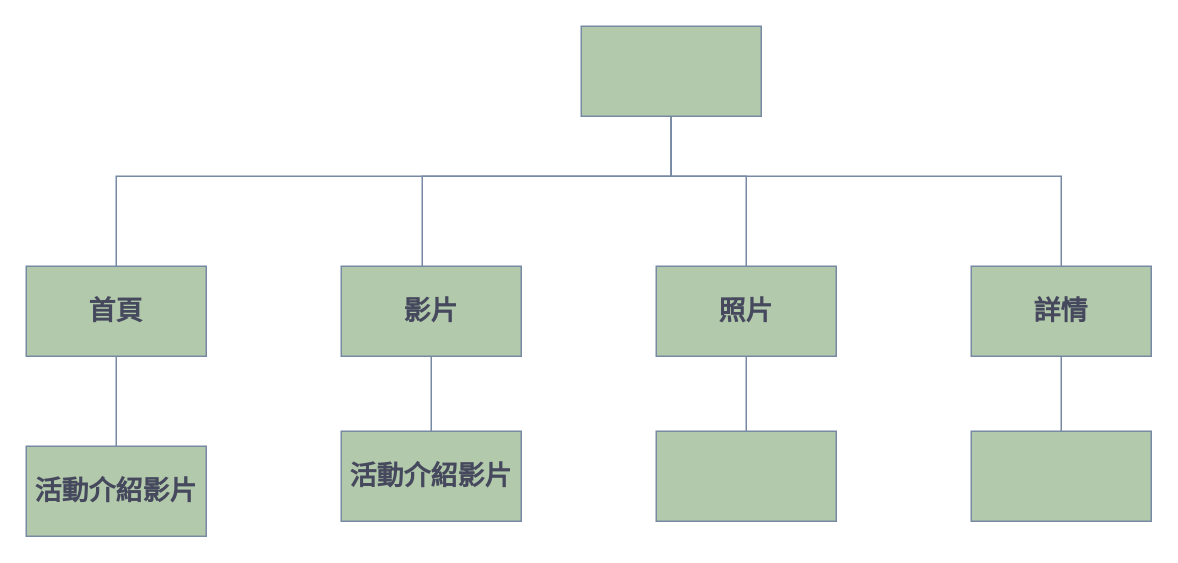
Image size: 1178x563. Some labels were removed from this diagram. Here are the shapes that lost their labels. From the top down, the centre of each, then its label:
At point 670,70: "活動介紹網站".
At point 745,475: "活動照片".
At point 1060,475: "照片細項".
